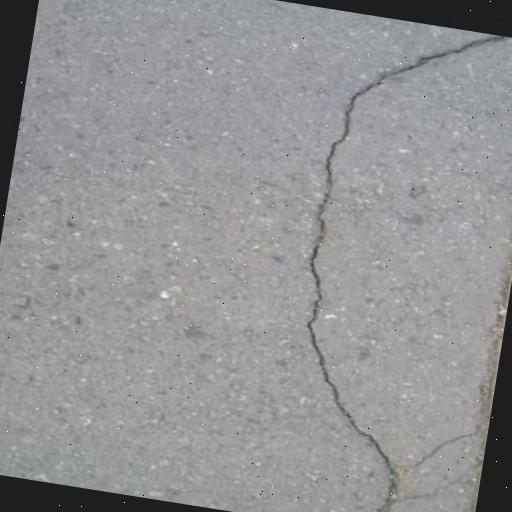spalling: (292, 30, 512, 512)
